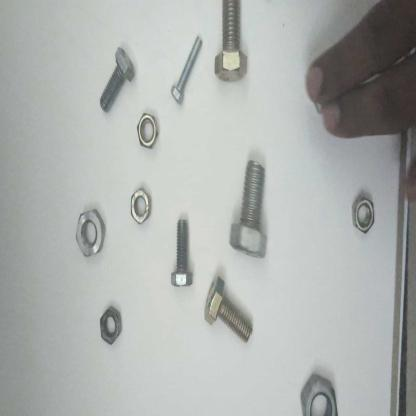Bolts: (226, 155, 275, 270), (201, 274, 261, 354), (209, 0, 253, 87), (167, 34, 208, 110), (99, 43, 135, 121), (168, 213, 198, 303)
NUTS: (68, 198, 112, 269), (299, 364, 339, 416), (97, 301, 126, 357), (126, 183, 155, 236), (348, 191, 378, 237), (133, 110, 164, 152)
